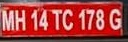character: (1, 9, 14, 31), (61, 8, 73, 30), (109, 8, 121, 30), (14, 9, 25, 31), (51, 9, 62, 31), (38, 9, 48, 31), (85, 9, 94, 30), (95, 9, 104, 30), (30, 9, 38, 31), (78, 9, 86, 30)
